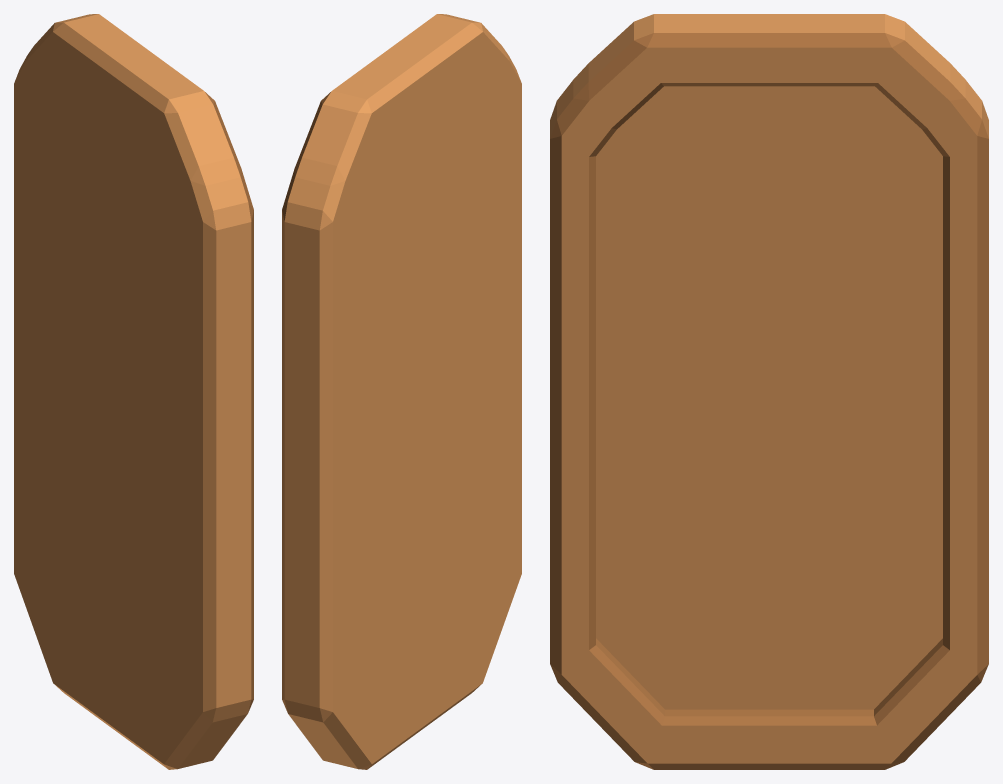
File: door.fbx
3 views of the same model, side by side, from view 1: azimuth 30°, elevation 25°; view 2: azimuth 150°, elevation 25°; view 3: azimuth 270°, elevation 25° (orthographic). The views are drawn at different scales.
Parts seen in each view (by area): view 1: Plane.004; view 2: Plane.004; view 3: Plane.004.
Boxes of the visible parts, left/top/right/bottom form: Plane.004: left=14, top=14, right=253, bottom=769; Plane.004: left=282, top=14, right=521, bottom=769; Plane.004: left=550, top=14, right=988, bottom=769.
Size of the model in its own units: 8.59 by 108 by 58.31.
